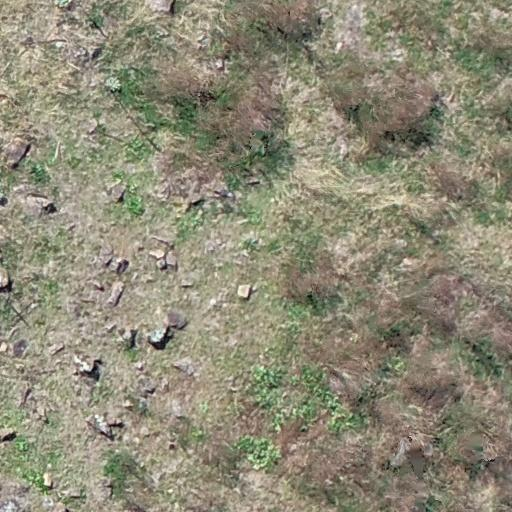stone: (144, 244, 180, 272), (2, 135, 28, 171), (146, 2, 180, 24), (70, 355, 100, 378), (96, 249, 121, 274), (94, 412, 112, 446), (27, 188, 51, 213), (0, 264, 18, 296), (162, 306, 186, 329), (149, 328, 177, 346), (108, 279, 123, 308), (121, 328, 139, 352), (0, 422, 18, 444), (62, 481, 85, 496), (84, 41, 100, 62), (43, 468, 56, 488), (238, 282, 251, 300), (51, 501, 72, 512), (87, 116, 98, 136), (52, 0, 73, 10), (212, 56, 224, 72), (90, 277, 103, 289), (106, 322, 114, 332)
